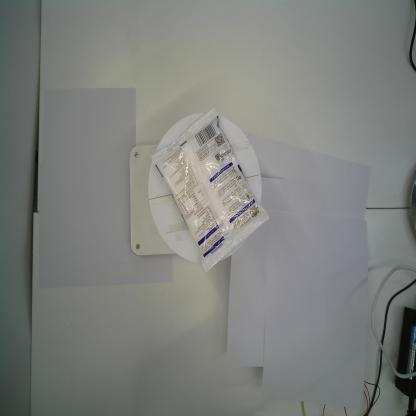Seasoner: (150, 106, 270, 276)
